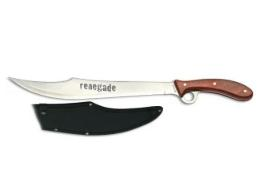MACHETTE: (5, 70, 258, 105)
